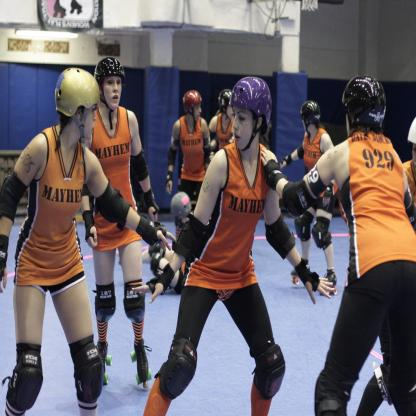Helmet: (51, 65, 97, 156), (229, 75, 271, 153), (342, 76, 387, 133), (94, 56, 126, 130), (169, 189, 194, 225), (182, 91, 203, 131), (300, 101, 320, 137), (219, 89, 233, 119), (408, 116, 416, 144)
